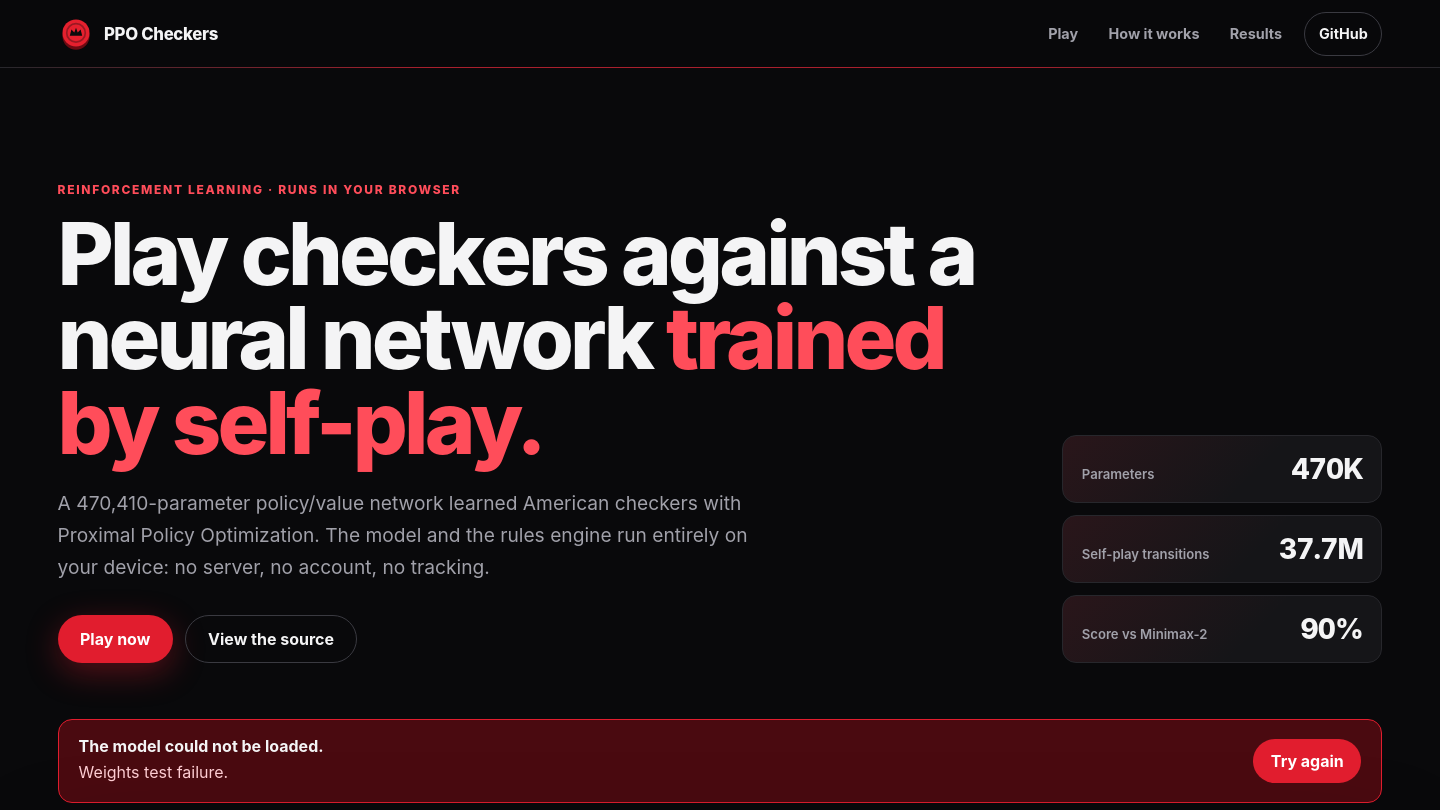
Scenario: PPO Checkers application › recovers from a failed model download
Expected: the message shows "Weights test failure.", [79,762,228,782]
Click the button "Try again": [1307, 761] box [1253,739,1361,783]
(page scrolled)
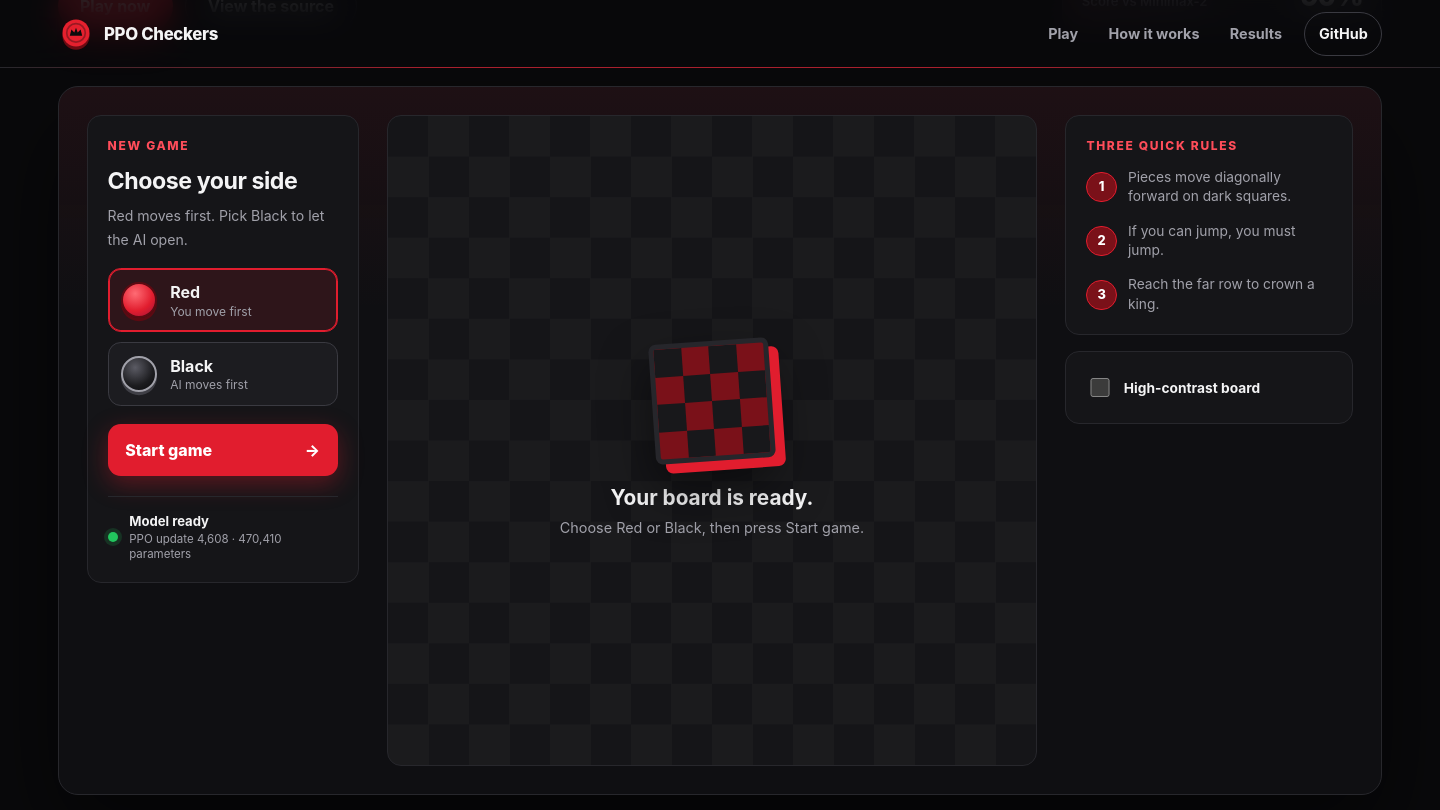
Expected: the button "Start game →" is enabled, [108,424,338,476]
